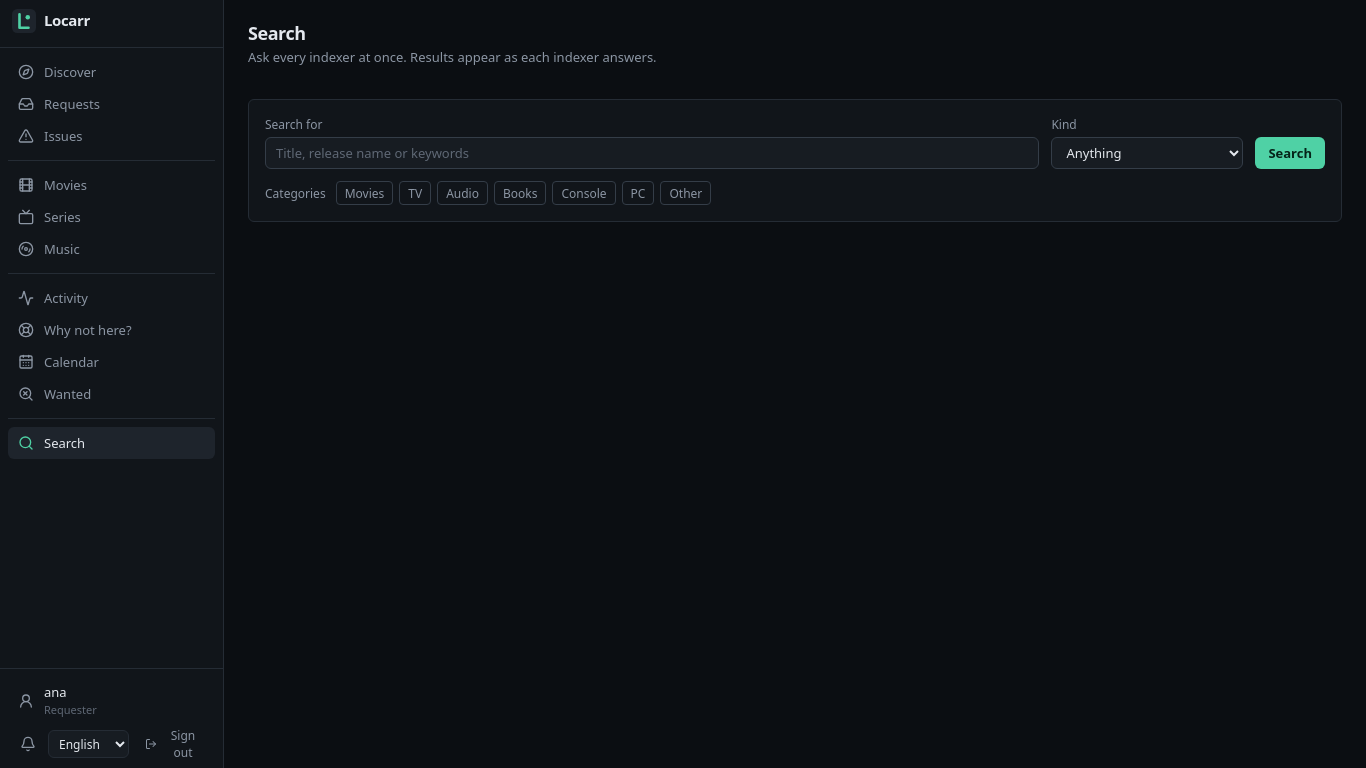
Test: search page › hides download links from requesters
Click the button "Search".
click(1290, 153)  # box [1255,137,1325,169]
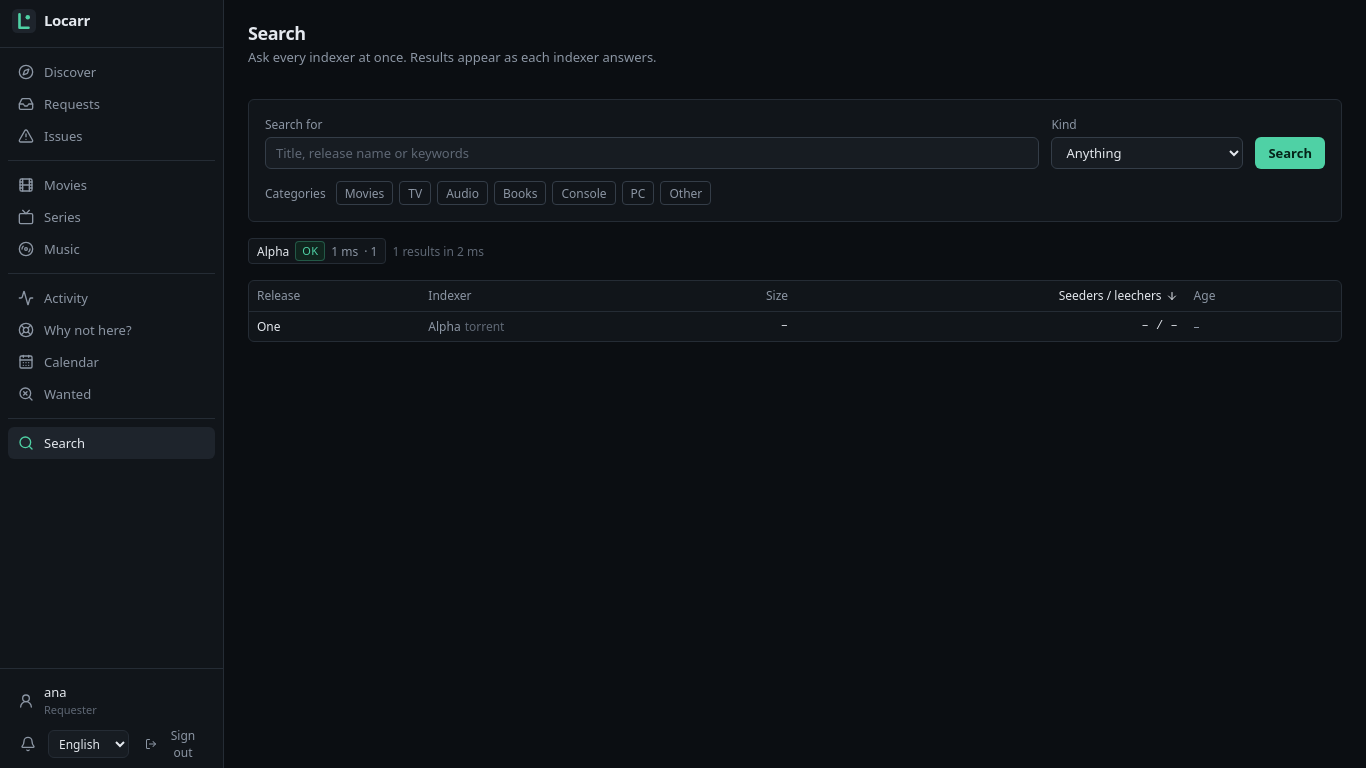
Result: the text "1 results in 2 ms" is shown at [392,243,484,260]
